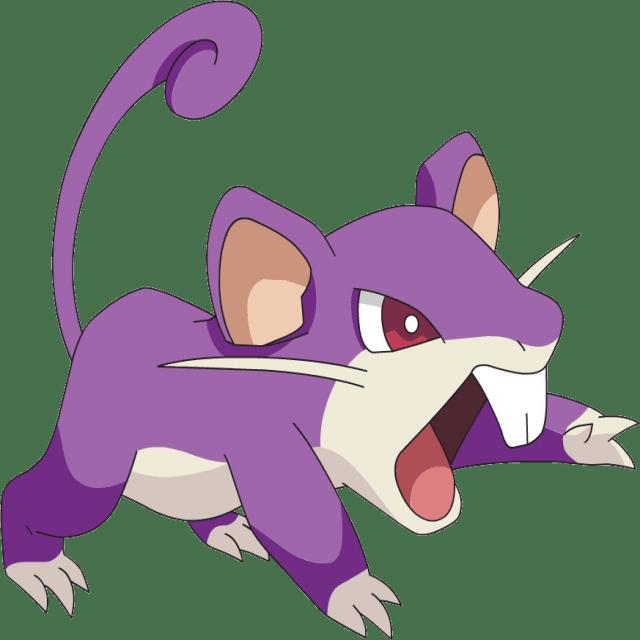Rattata: (53, 131, 581, 610)
